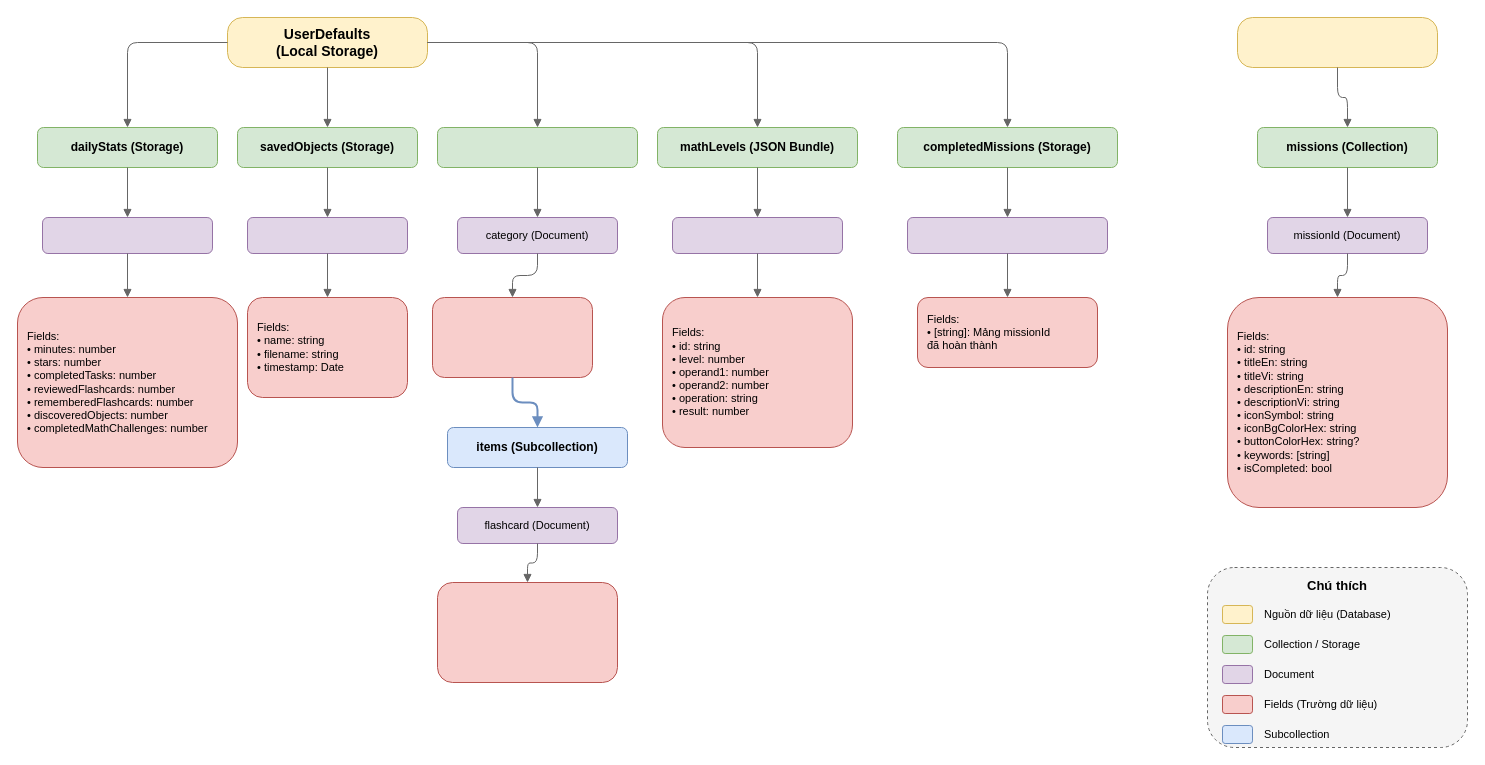
Some shapes in this 1485 by 765 pixel diagram are drawn without their labels. The centre of each missing label's shape, as x and y in pixels:
challenge (Document): (x=757, y=235)
completed_missions (Key): (x=1007, y=235)
Fields: • category: string • imageName: string: (x=512, y=337)
Fields: • title: string • imageName: string • description: string: (x=527, y=632)
Firebase Realtime Database: (x=1337, y=42)
savedObject (Document): (x=327, y=235)
vocabulary (JSON Bundle): (x=537, y=147)
YYYY-MM-DD (Document): (x=127, y=235)
